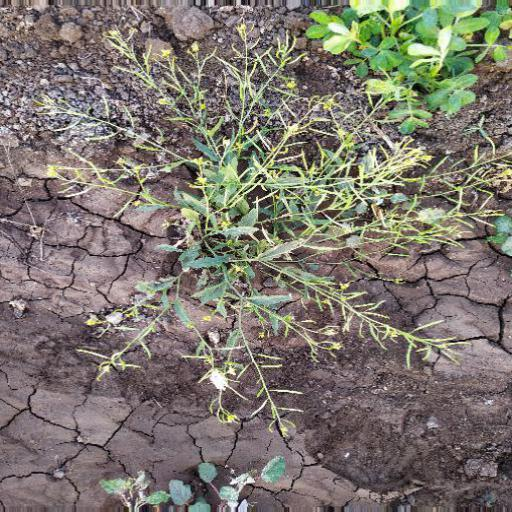weed: (47, 1, 510, 428)
